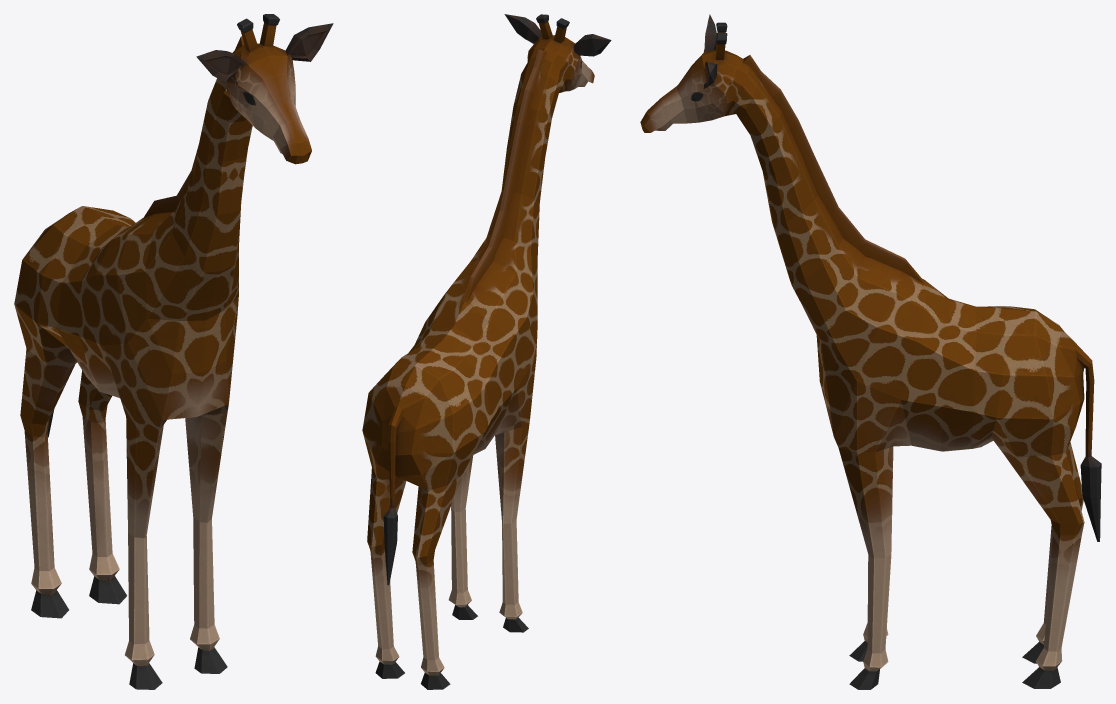
Rendered from Giraffe-transformed.glb.
The picture shows the model from 3 angles, left to right: view 1: azimuth 30°, elevation 25°; view 2: azimuth 150°, elevation 25°; view 3: azimuth 270°, elevation 25°; orthographic projection. The views are drawn at different scales.
Visible parts, largest first — view 1: polySurface2; view 2: polySurface2; view 3: polySurface2.
Boxes of the visible parts, left/top/right/bottom form: polySurface2: left=14, top=14, right=333, bottom=689; polySurface2: left=362, top=14, right=611, bottom=689; polySurface2: left=640, top=14, right=1101, bottom=689.
Bounding box in the file's own units: 4.09 × 20.35 × 13.27.
1 material, 1 textured.
